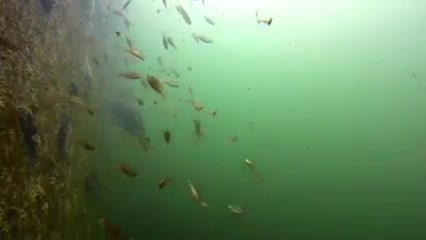smallfish: (109, 158, 140, 183), (144, 71, 169, 101), (117, 43, 150, 63)
